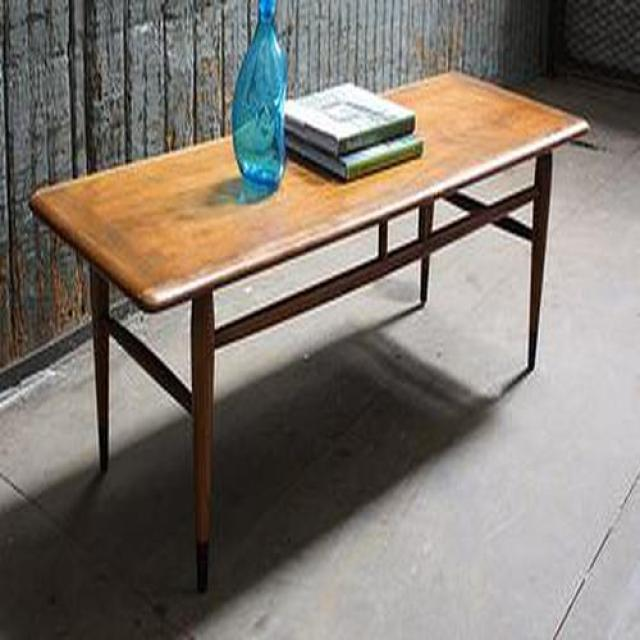table: (29, 72, 591, 595)
